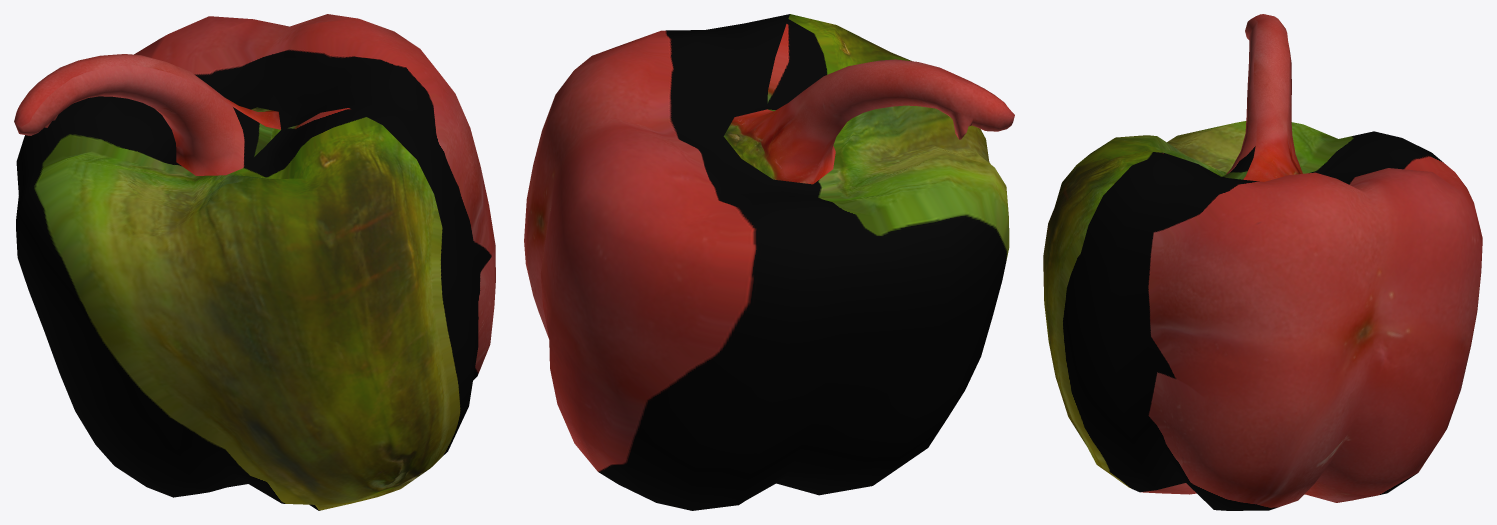
The picture shows the model from 3 angles, left to right: view 1: azimuth 30°, elevation 25°; view 2: azimuth 150°, elevation 25°; view 3: azimuth 270°, elevation 25°; orthographic projection. The views are drawn at different scales.
Parts seen in each view (by area): view 1: Box001; view 2: Box001; view 3: Box001.
Boxes of the visible parts, left/top/right/bottom form: Box001: left=14, top=14, right=495, bottom=510; Box001: left=524, top=14, right=1014, bottom=510; Box001: left=1043, top=14, right=1482, bottom=510.
Bounding box in the file's own units: 91.33 × 83.24 × 86.52.
Materials: 1 (1 with a texture image).
